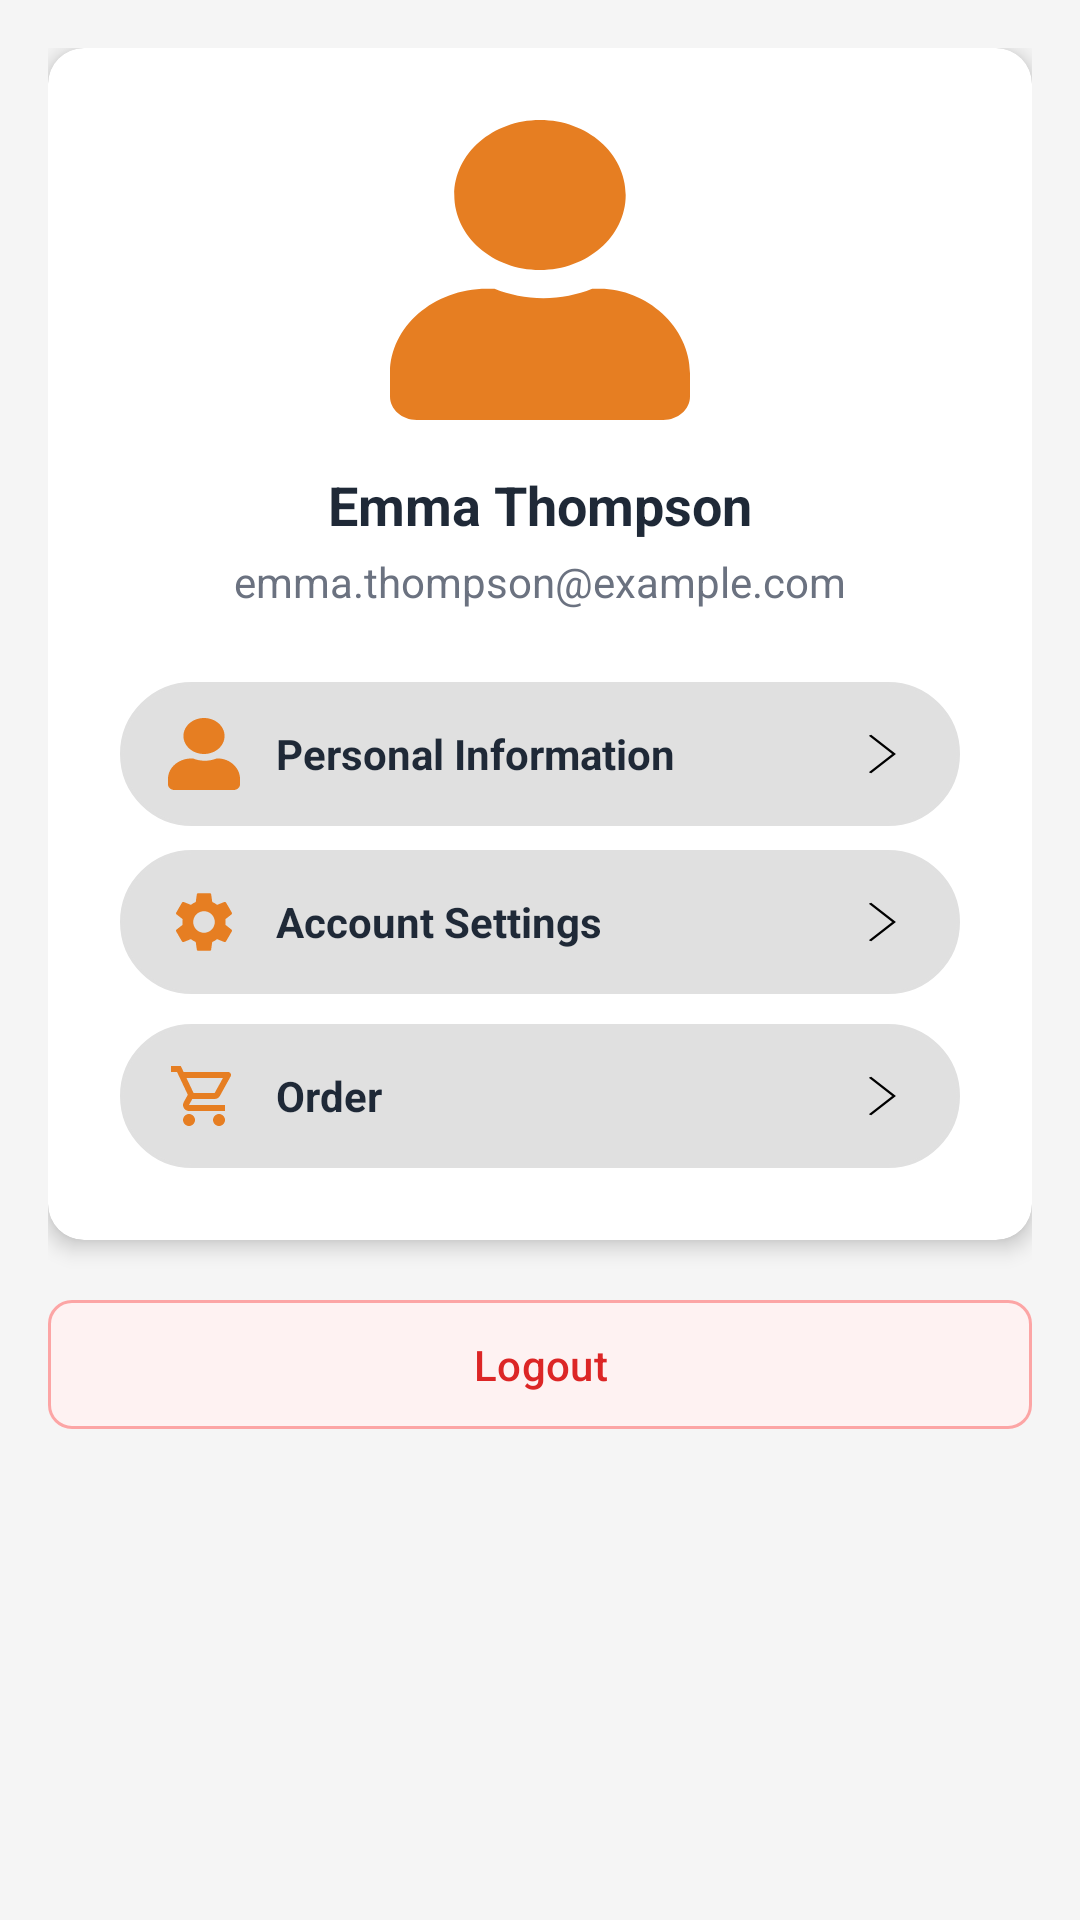

Named icons in this screenshot (1080px x 1920px) and their centers, point (x, y):
arrow right: point (882, 754), point (882, 922), point (882, 1096)
cart: point (201, 1096)
